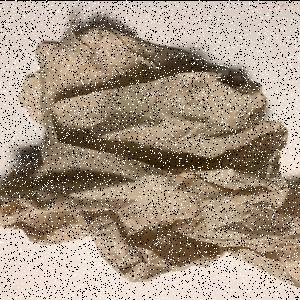Trash: (2, 18, 300, 293)
